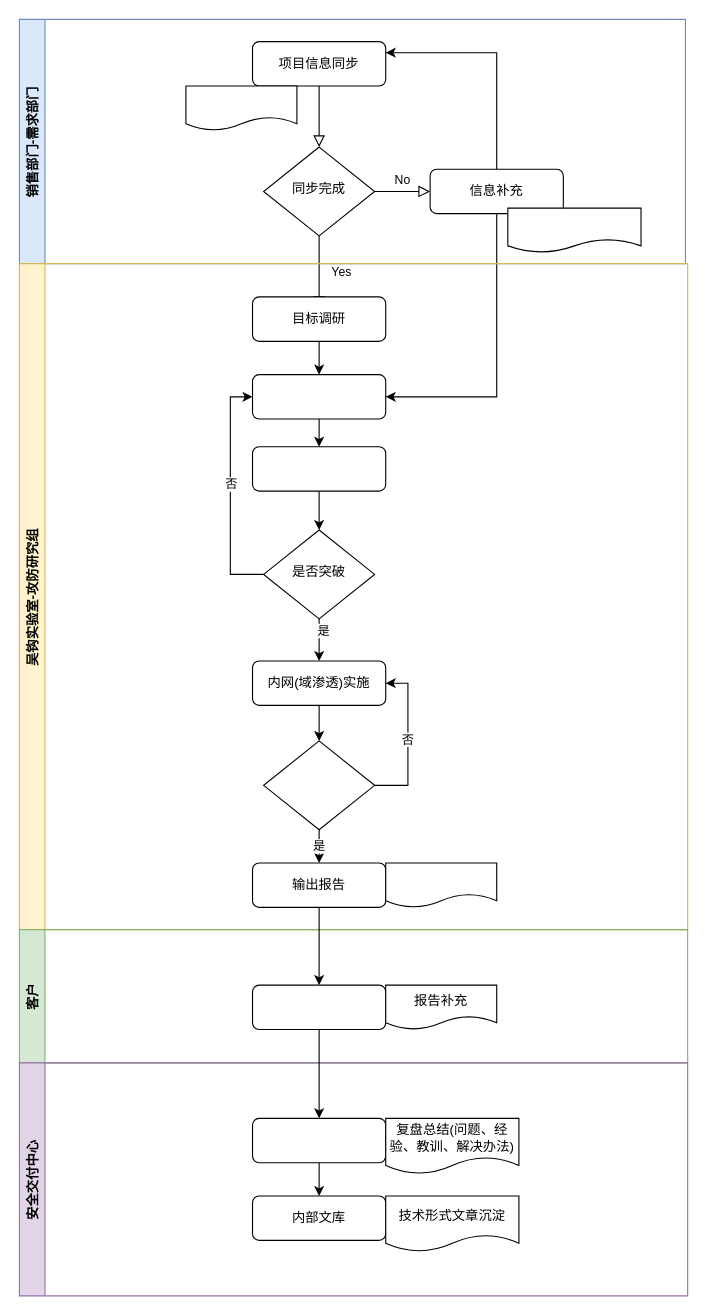
Image size: 707x1315. Some labels were removed from this diagram. Each missing label, with the centre of its shape:
信息收集: point (318, 396)
红队评估报告: point (441, 884)
获取靶标: point (319, 785)
边界突破: point (318, 468)
项目同步: point (318, 1007)
项目复盘: point (318, 1140)
项目进展、友商情报: point (574, 230)
项目邮件、OA: point (241, 107)
